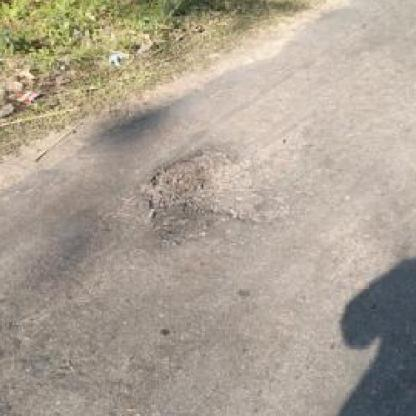pothole: (137, 144, 261, 228)
